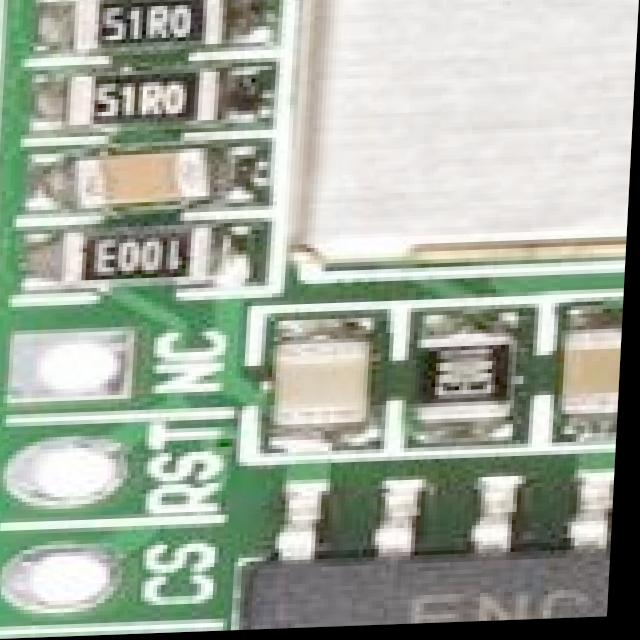IC: (222, 525, 618, 633)
capacitor: (262, 333, 374, 436), (51, 145, 218, 214), (570, 325, 626, 431)
connector: (268, 0, 640, 284)
resistor: (52, 233, 242, 292), (78, 0, 252, 56), (71, 77, 237, 132), (426, 333, 512, 431)
